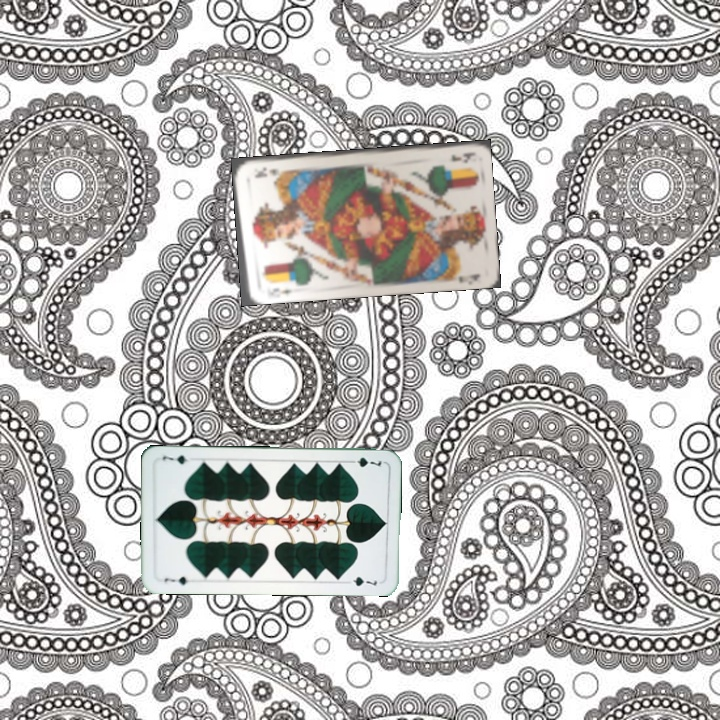EK: (447, 148, 474, 164), (263, 283, 296, 296)
G7: (345, 453, 384, 470), (160, 572, 190, 588)
